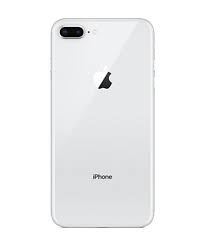iphone: (46, 13, 157, 231)
